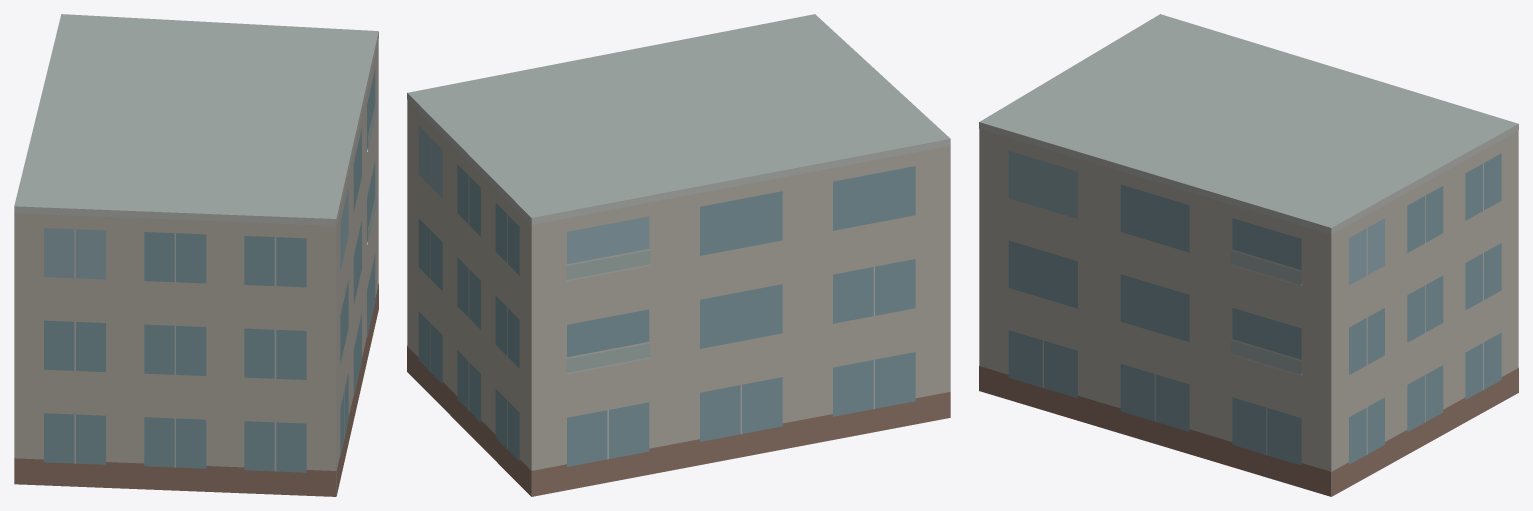
The model's file is survey-upis-32840631.glb.
3 views of the same model, side by side, from view 1: azimuth 30°, elevation 25°; view 2: azimuth 150°, elevation 25°; view 3: azimuth 270°, elevation 25° (orthographic). The views are drawn at different scales.
Parts seen in each view (by area): view 1: survey-upis-32840631.tmp; view 2: survey-upis-32840631.tmp; view 3: survey-upis-32840631.tmp.
Boxes of the visible parts, left/top/right/bottom form: survey-upis-32840631.tmp: left=14, top=14, right=378, bottom=496; survey-upis-32840631.tmp: left=407, top=14, right=950, bottom=496; survey-upis-32840631.tmp: left=979, top=14, right=1518, bottom=496.
Bounding box in the file's own units: 16.9 × 9.9 × 18.01.
